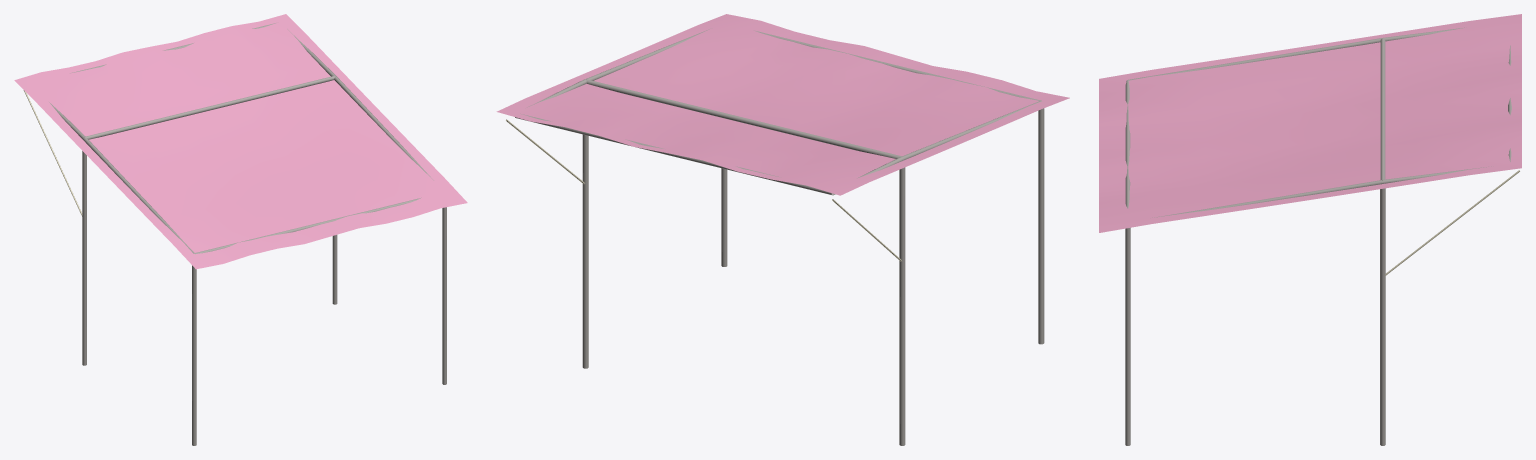
The model's file is carpa_una_agua.glb.
3 renders of one model, left to right at view 1: azimuth 30°, elevation 25°; view 2: azimuth 150°, elevation 25°; view 3: azimuth 270°, elevation 25°, orthographic. The views are drawn at different scales.
Parts seen in each view (by area): view 1: carpa_una_agua_lona, carpa_una_agua_tubos; view 2: carpa_una_agua_lona, carpa_una_agua_tubos; view 3: carpa_una_agua_lona, carpa_una_agua_tubos.
Part boxes in pixels (left/top/right/bottom): carpa_una_agua_lona: left=14, top=14, right=467, bottom=269; carpa_una_agua_tubos: left=49, top=23, right=446, bottom=445; carpa_una_agua_lona: left=496, top=14, right=1069, bottom=195; carpa_una_agua_tubos: left=515, top=29, right=1044, bottom=445; carpa_una_agua_lona: left=1099, top=14, right=1521, bottom=232; carpa_una_agua_tubos: left=1125, top=27, right=1511, bottom=445.
Size of the model in its own units: 3.15 by 2.71 by 3.65.
